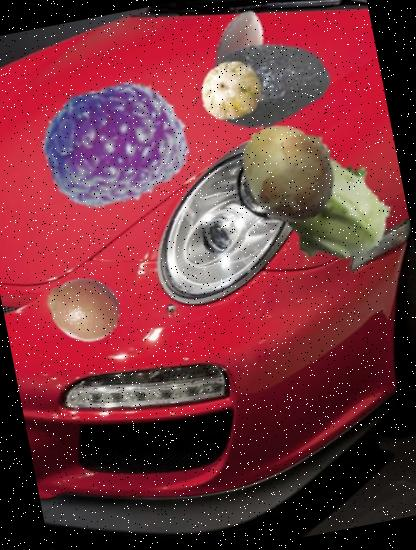Avocado: (195, 11, 342, 158)
Cantaloupe: (194, 54, 266, 127)
Hazelnut: (180, 0, 298, 117)
Kohlrabi: (264, 140, 402, 277)
Onion: (227, 111, 349, 233)
Raspberry: (29, 58, 204, 233)
Tangelo: (38, 264, 126, 352)
